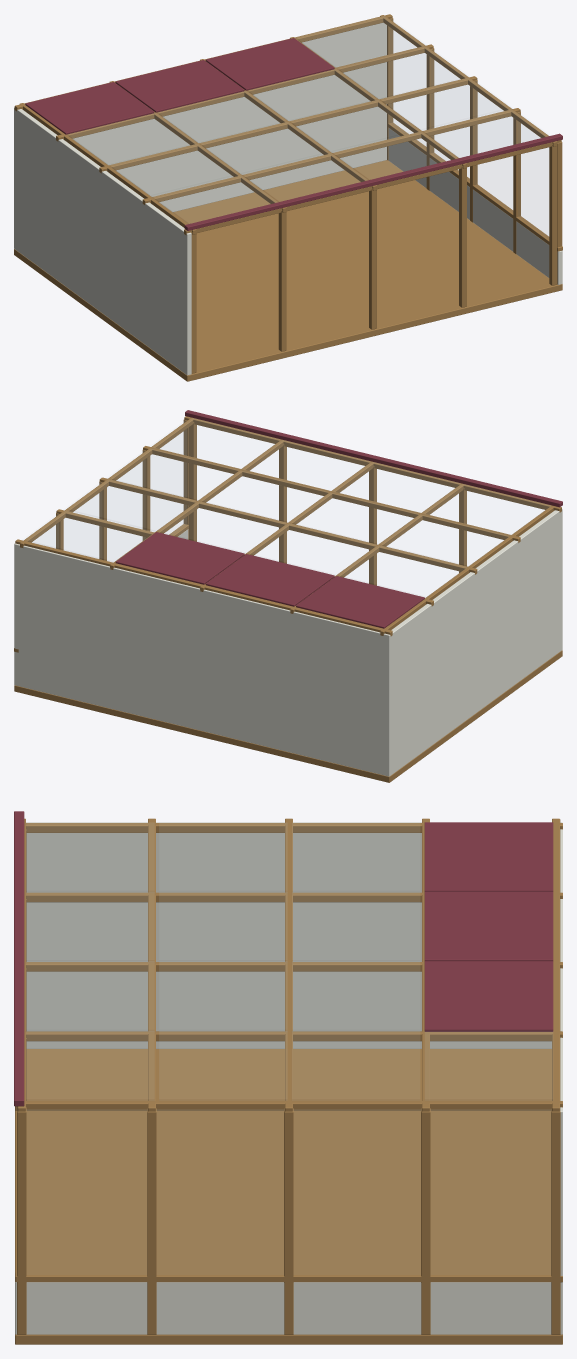
File: abandoned-puppet-theatre-and-prop-vault-roofed-puppet--46329281__31053.glb
The picture shows the model from 3 angles, top to bottom: view 1: azimuth 30°, elevation 25°; view 2: azimuth 150°, elevation 25°; view 3: azimuth 270°, elevation 25°; orthographic projection. The views are drawn at different scales.
Parts seen in each view (by area): view 1: roofed-puppet-theatre; view 2: roofed-puppet-theatre; view 3: roofed-puppet-theatre.
Part boxes in pixels (bbox=[...]): roofed-puppet-theatre: bbox=[14, 14, 562, 381]; roofed-puppet-theatre: bbox=[14, 410, 562, 782]; roofed-puppet-theatre: bbox=[14, 811, 562, 1344].
Bounding box in the file's own units: 10.01 × 3.94 × 8.02.
